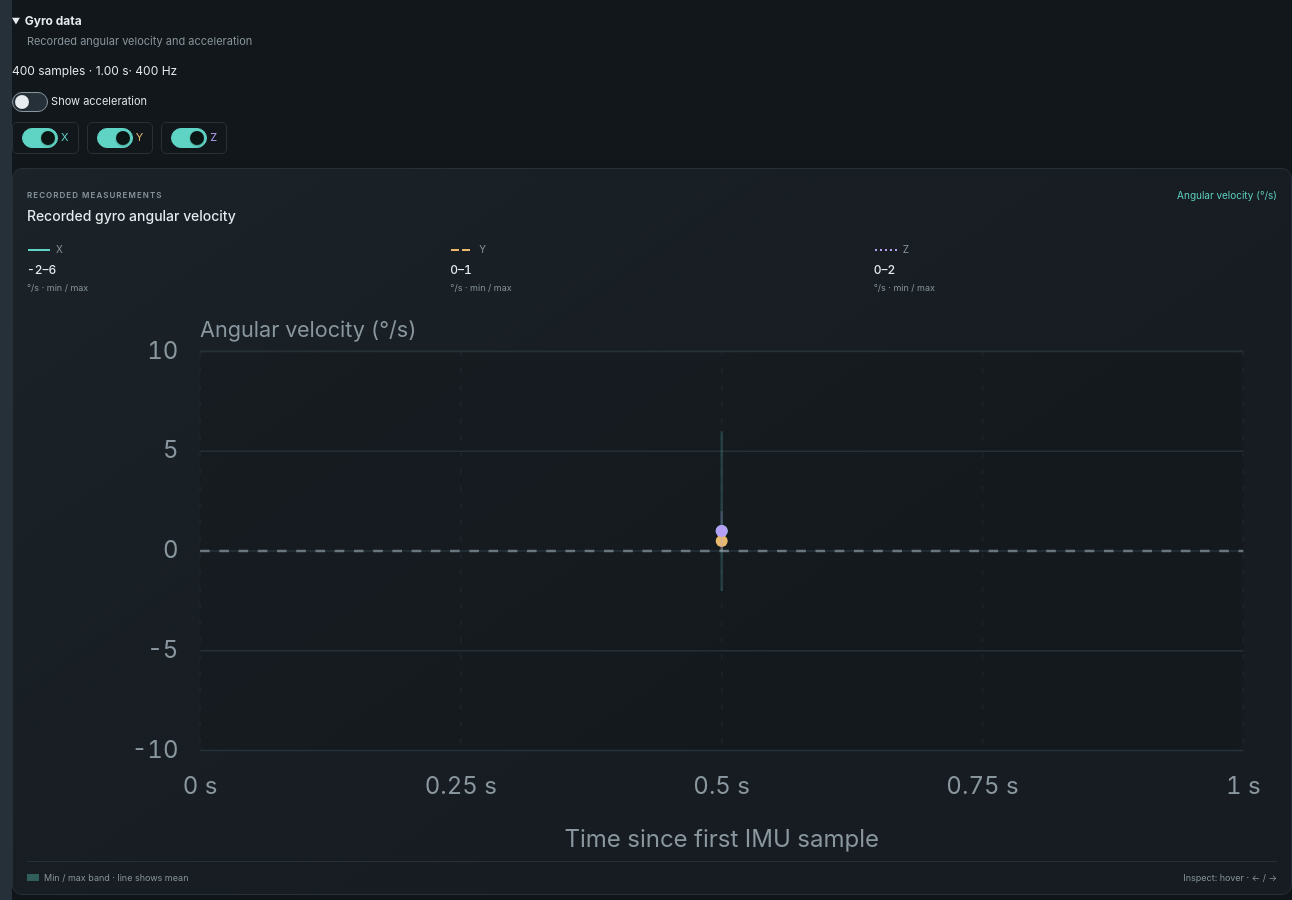
Scenario: reads gyro on expansion and lets the user switch axes and acceleration
Click the switch labelled "X": (40,138) [22,128,58,148]
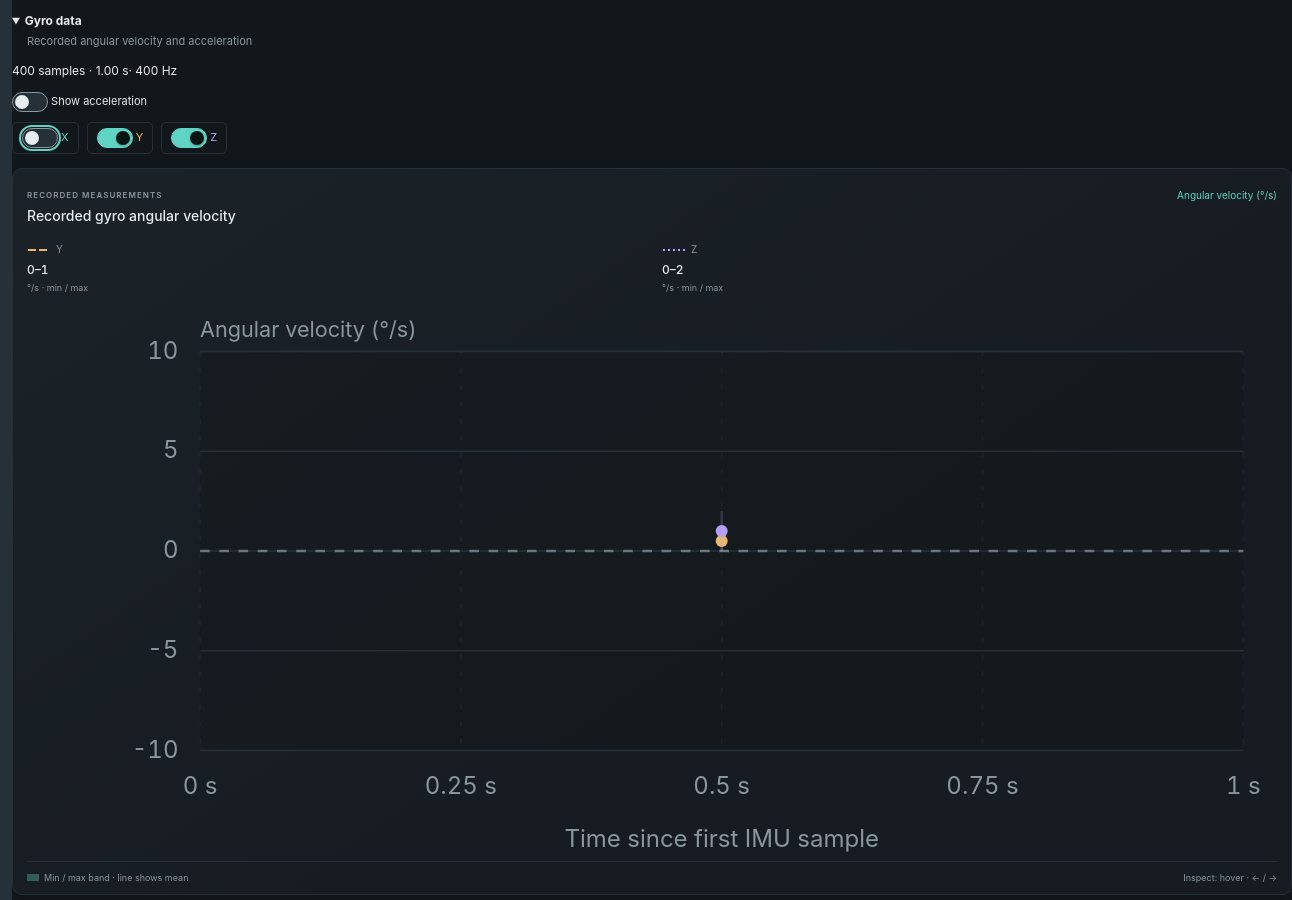
Click the switch labelled "Show acceleration": (30,102) [12,92,48,112]
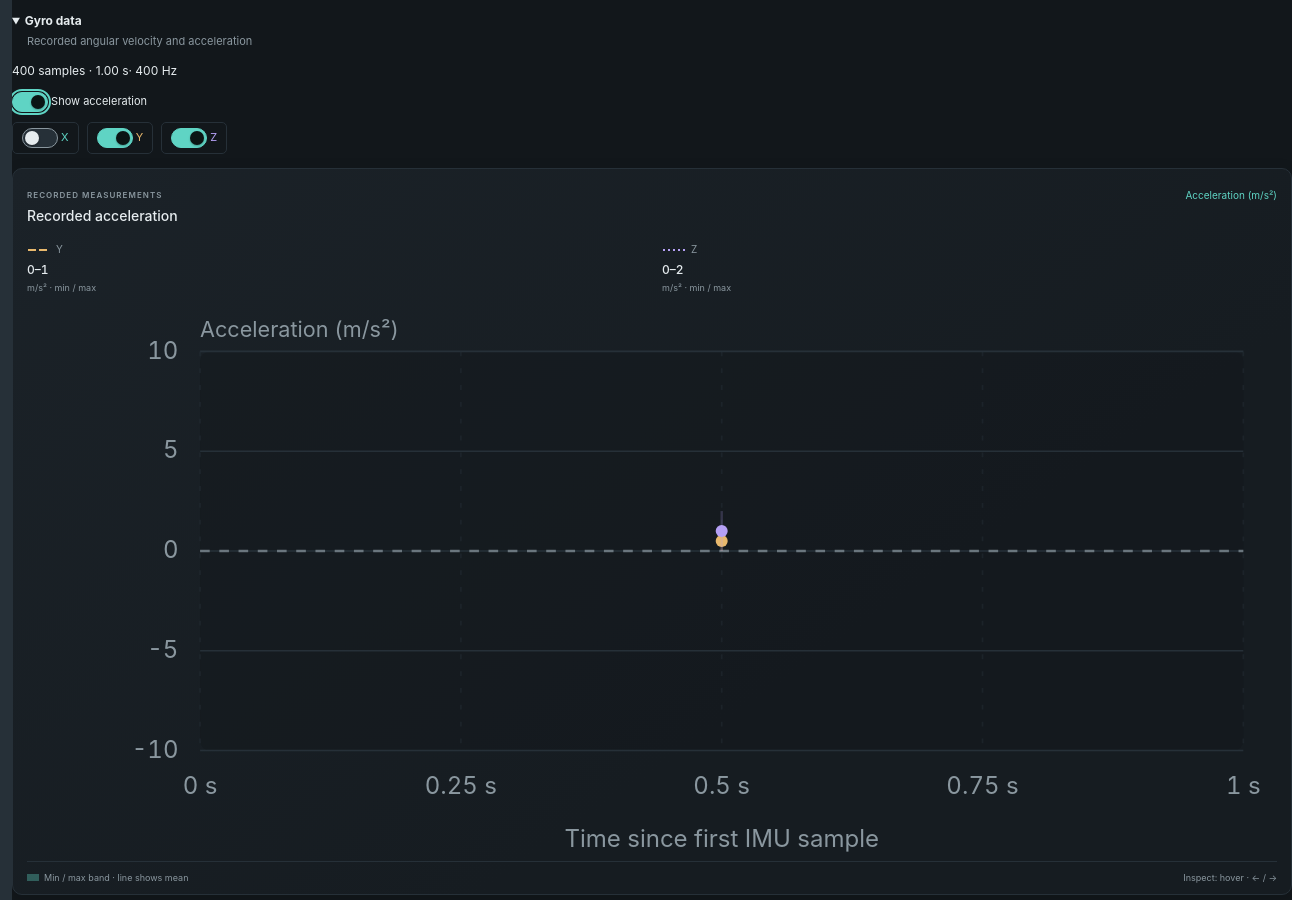
Now the picture named "Recorded acceleration" is shown, box [27,313,1277,861]
